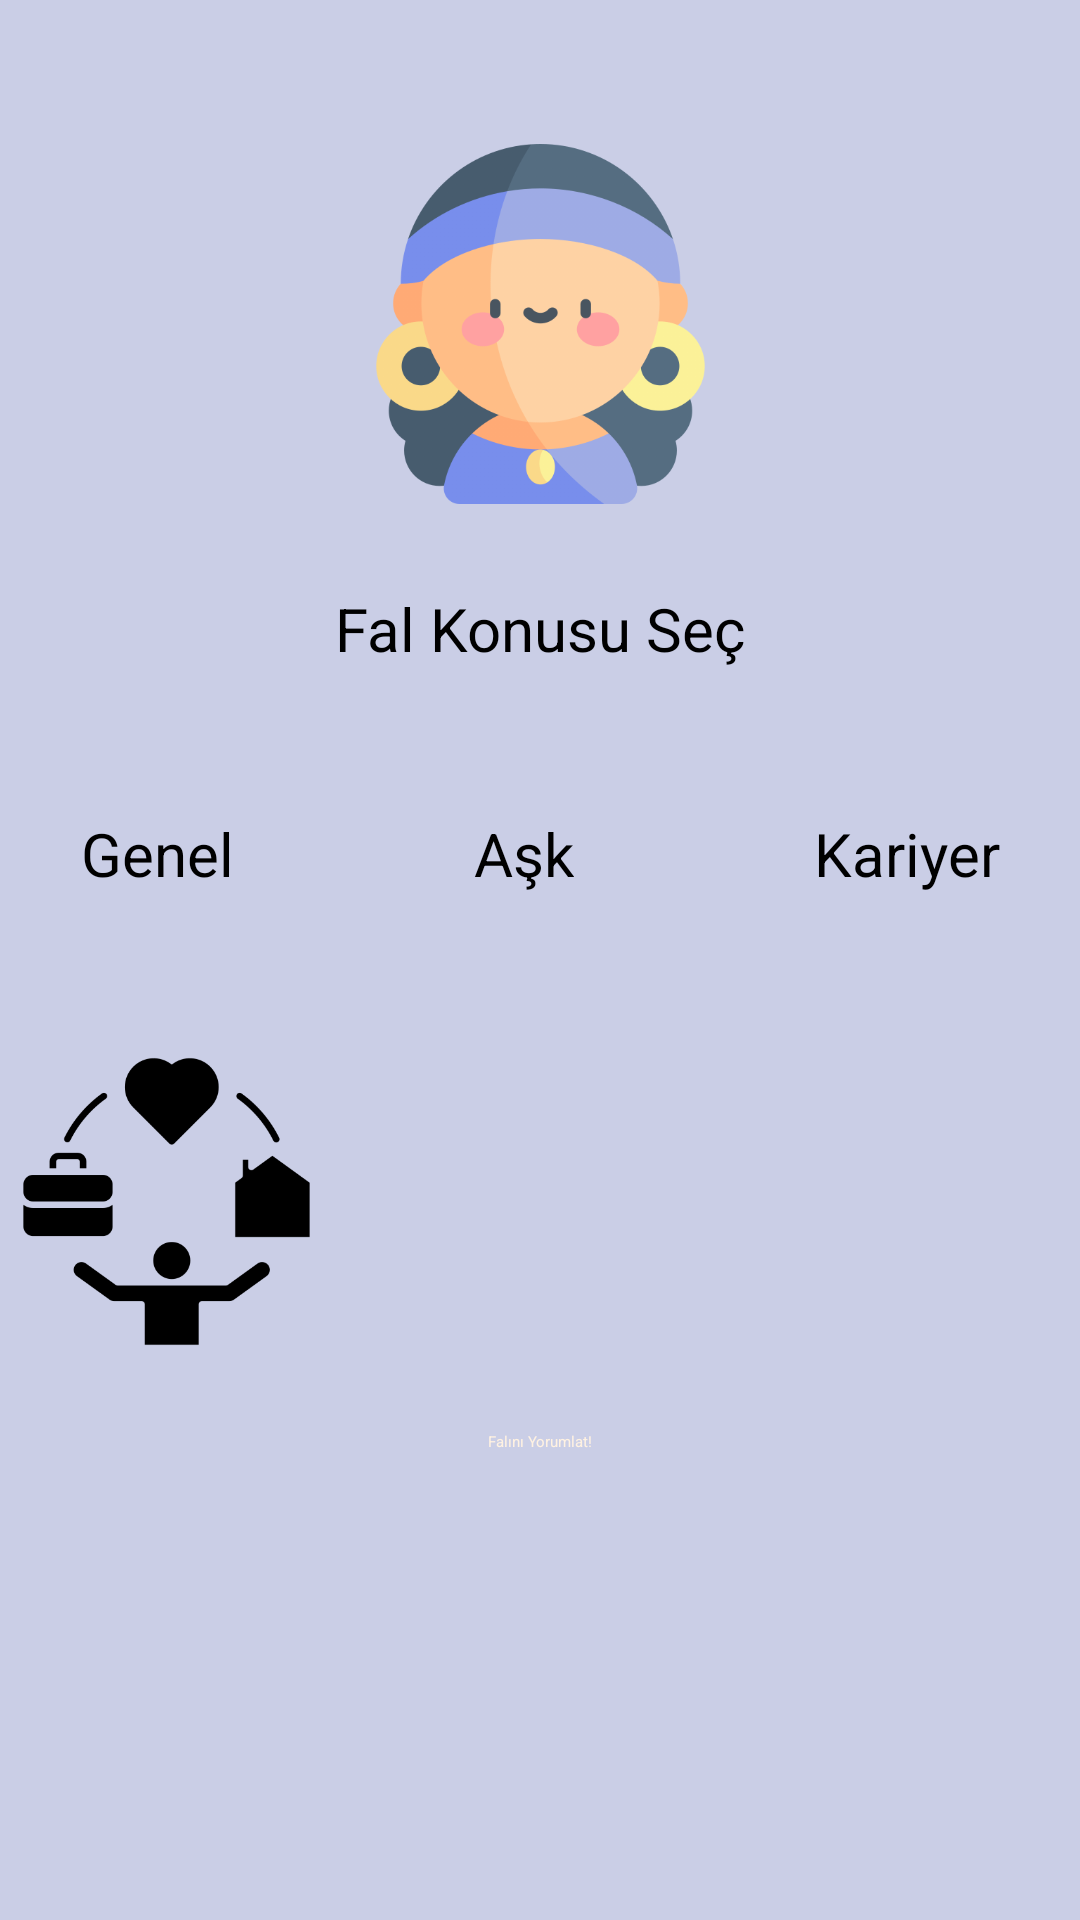

Icon bounding boxes for this 1080*1920 phone screenshot, format box=[x1, y1, x2, y2]:
fortuneteller: box=[376, 144, 705, 504]
general: box=[23, 1058, 310, 1345]
